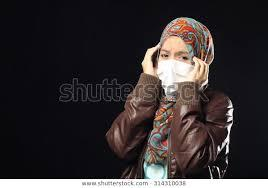Wearing Mask: (142, 5, 215, 101)
